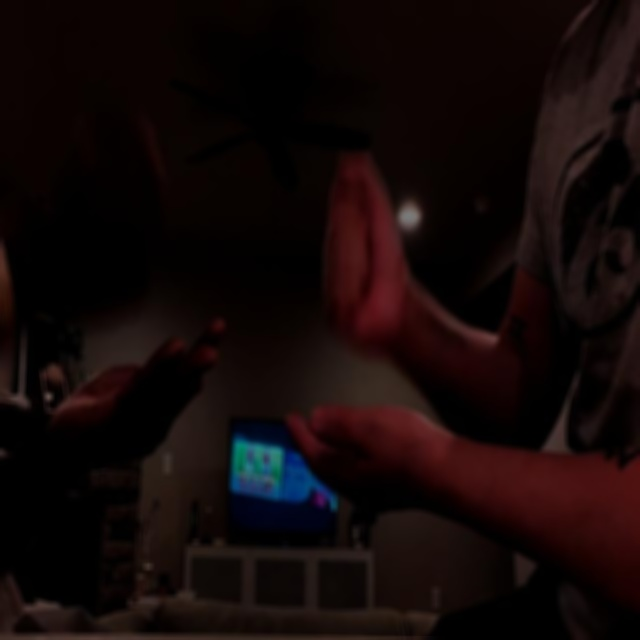Rock: (63, 104, 165, 307), (319, 146, 412, 358)
